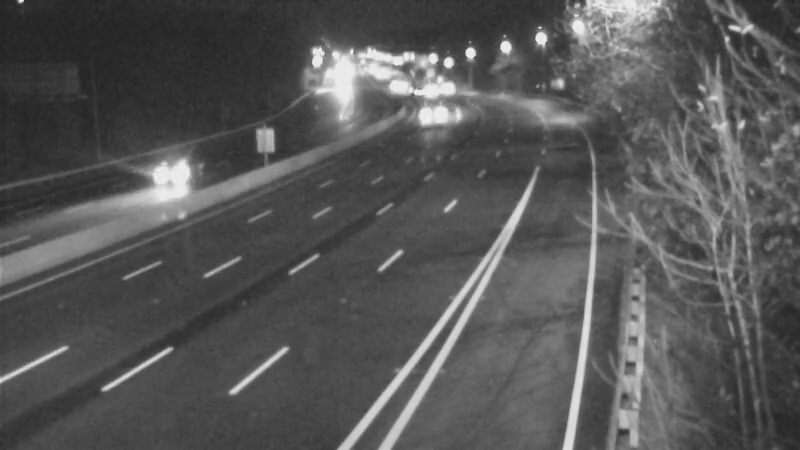vehicle: (136, 136, 216, 216), (401, 65, 451, 115), (427, 61, 477, 111), (408, 90, 458, 140)
